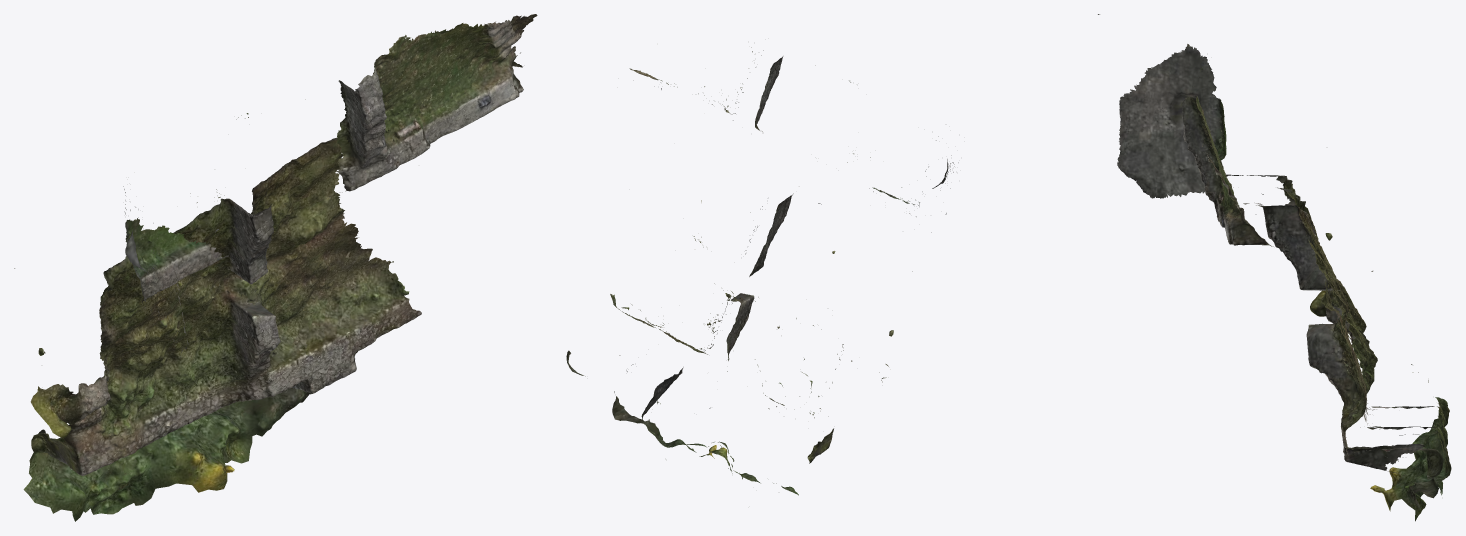
3 views of the same model, side by side, from view 1: azimuth 30°, elevation 25°; view 2: azimuth 150°, elevation 25°; view 3: azimuth 270°, elevation 25° (orthographic). The views are drawn at different scales.
Bounding box in the file's own units: 16.25 × 18.06 × 14.31.
Materials: 1 (1 with a texture image).
